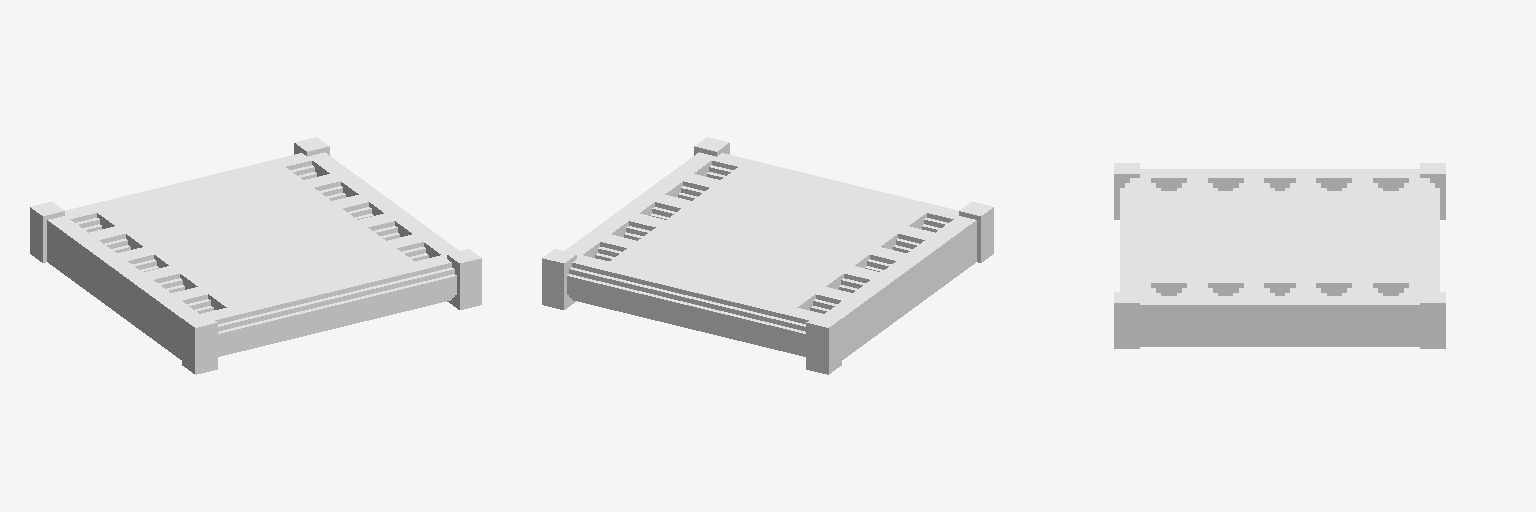
The model's file is ExpressConveyor.obj.
The picture shows the model from 3 angles: view 1: azimuth 30°, elevation 25°; view 2: azimuth 150°, elevation 25°; view 3: azimuth 270°, elevation 25°; orthographic projection.
Bounding box in the file's own units: 64 × 10 × 64.